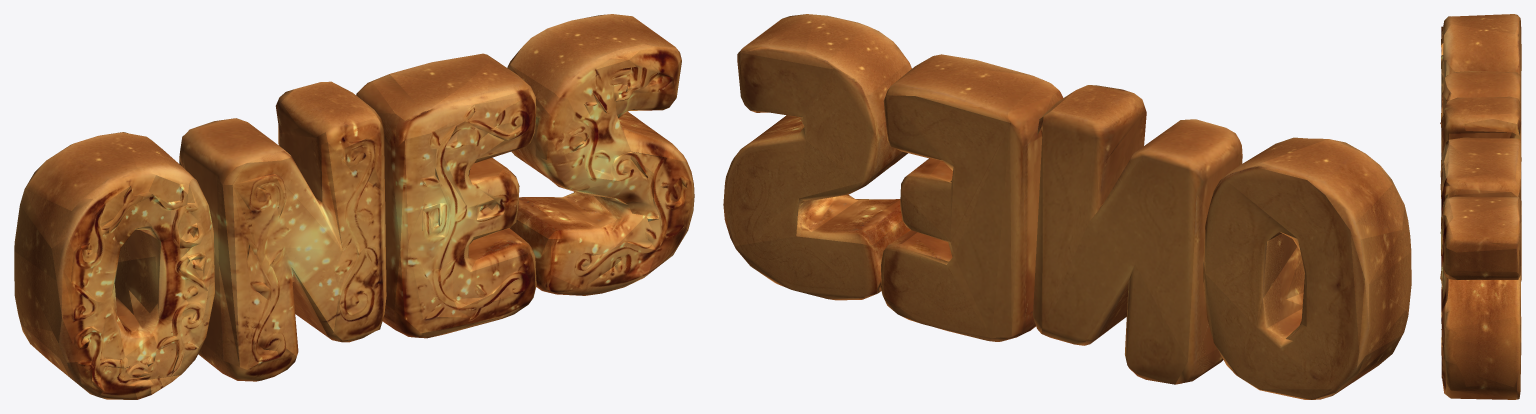
The model's file is Meshy_AI_Glowing_Ones_Typograp_0818144353_texture.glb.
3 renders of one model, left to right at view 1: azimuth 30°, elevation 25°; view 2: azimuth 150°, elevation 25°; view 3: azimuth 270°, elevation 25°, orthographic. The views are drawn at different scales.
Parts seen in each view (by area): view 1: mesh_node; view 2: mesh_node; view 3: mesh_node.
Part boxes in pixels (x1=…): mesh_node: x1=14, y1=14, x2=694, y2=399; mesh_node: x1=723, y1=14, x2=1411, y2=399; mesh_node: x1=1440, y1=14, x2=1521, y2=399.
Size of the model in its own units: 1.9 by 0.6997 by 0.269.
Materials: 1 (1 with a texture image).
